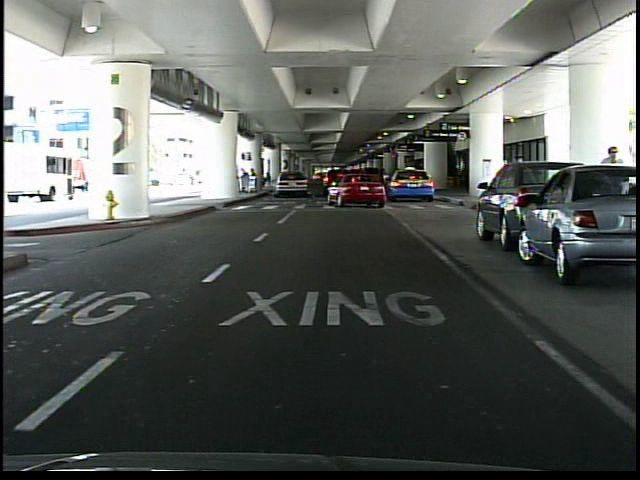person: (597, 142, 629, 245)
